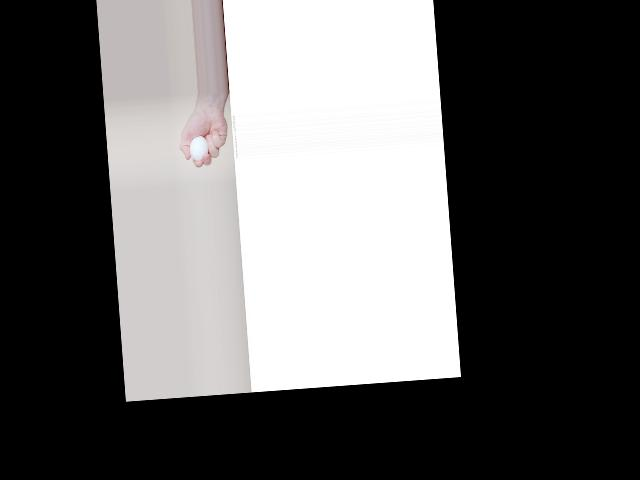egg: (189, 134, 209, 160)
